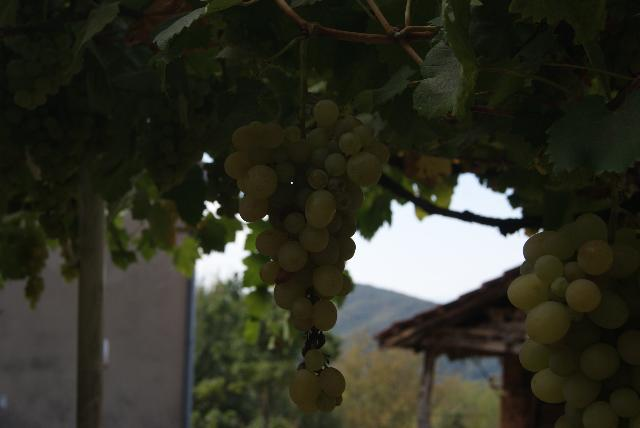grapes: (224, 100, 390, 412), (508, 214, 640, 428)
